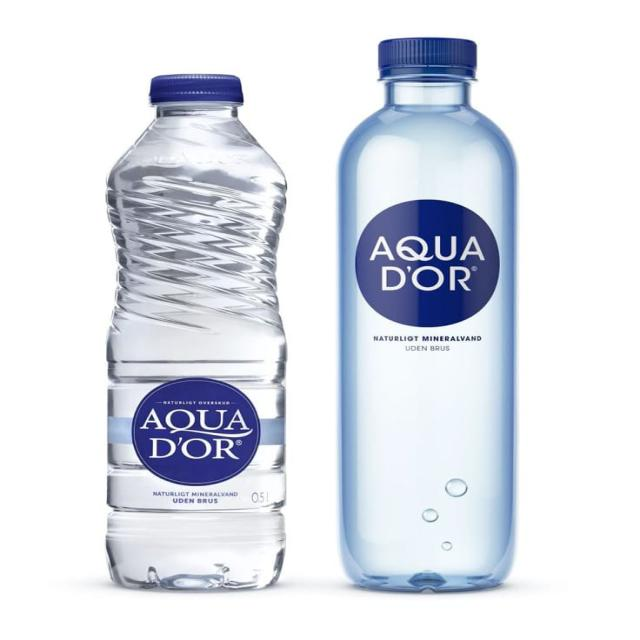bottle: (85, 52, 319, 603), (341, 31, 545, 601)
